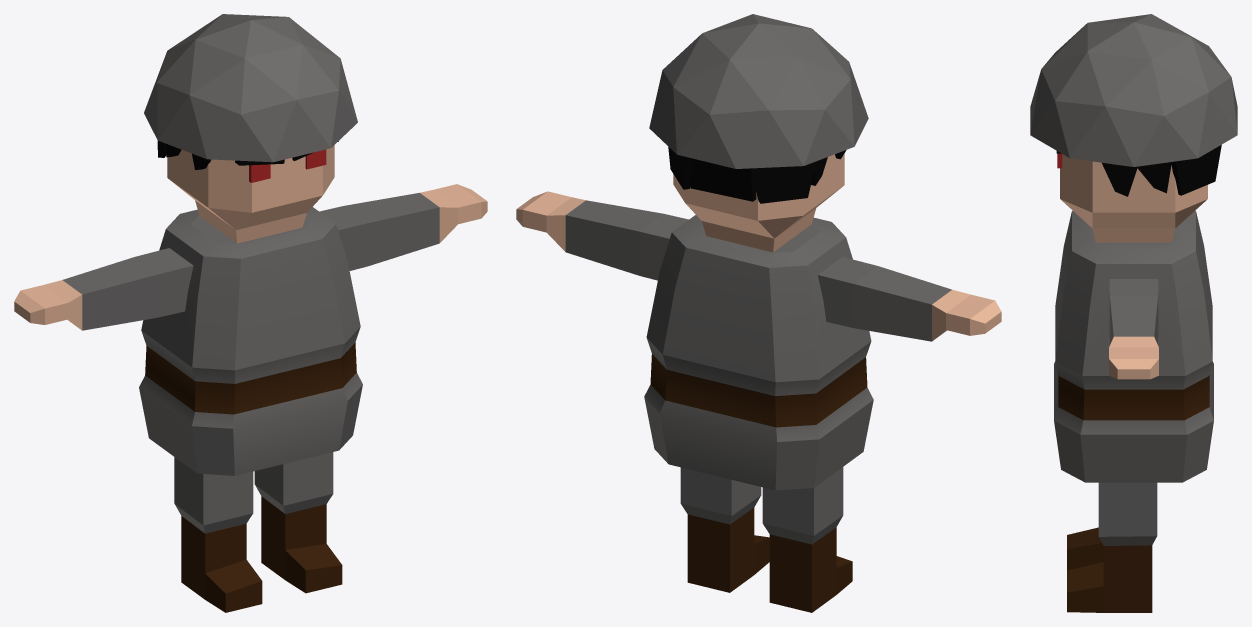
The model's file is EnemySold.fbx.
3 views of the same model, side by side, from view 1: azimuth 30°, elevation 25°; view 2: azimuth 150°, elevation 25°; view 3: azimuth 270°, elevation 25° (orthographic). The views are drawn at different scales.
Visible parts, largest first — view 1: тіло; view 2: тіло; view 3: тіло.
Part boxes in pixels (x1,y1,x2,y2): тіло: [14, 14, 487, 612]; тіло: [516, 14, 1001, 612]; тіло: [1030, 14, 1237, 612].
Size of the model in its own units: 453 by 524 by 176.
